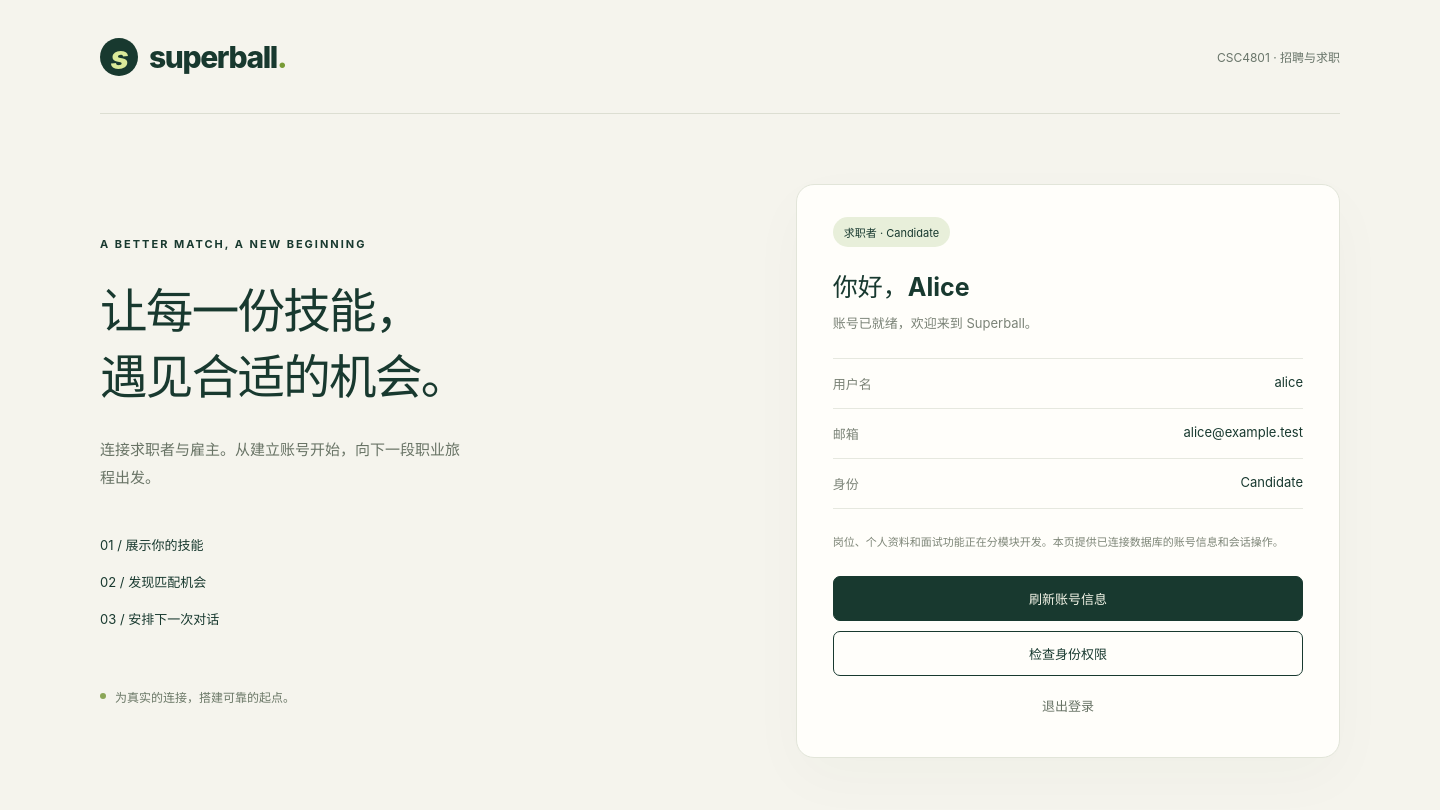
it: restores a stored session, reads current user data and logs out
The width and height of the screenshot is (1440, 810).
Expected: the heading "你好，Alice" is shown, [833,272,970,302]
Expected: the text "alice@example.test" is shown, [1184,424,1303,443]
Click the button "退出登录". click: x=1068, y=705
box: [833,686,1303,725]
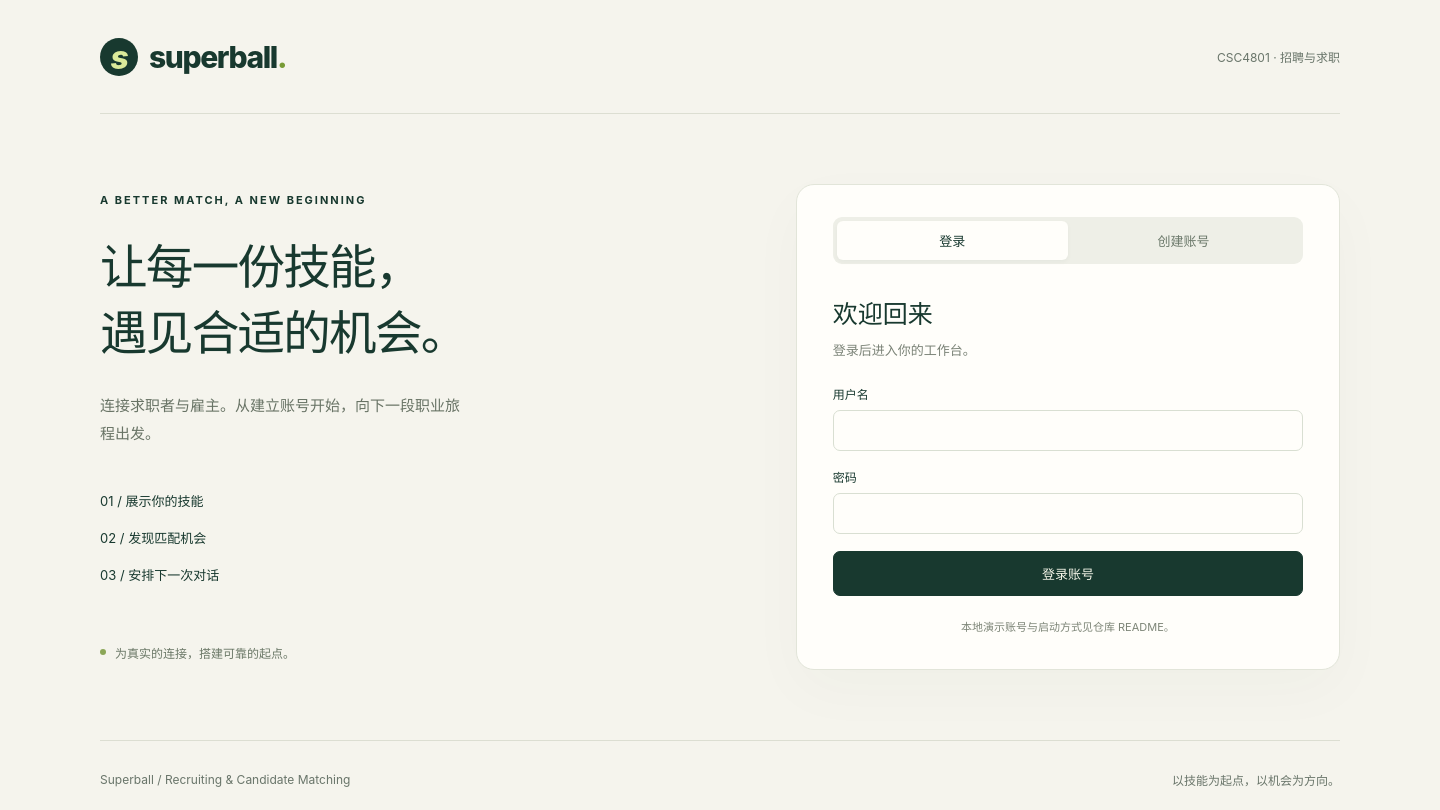
Result: the heading "欢迎回来" is shown at [833,299,933,329]
